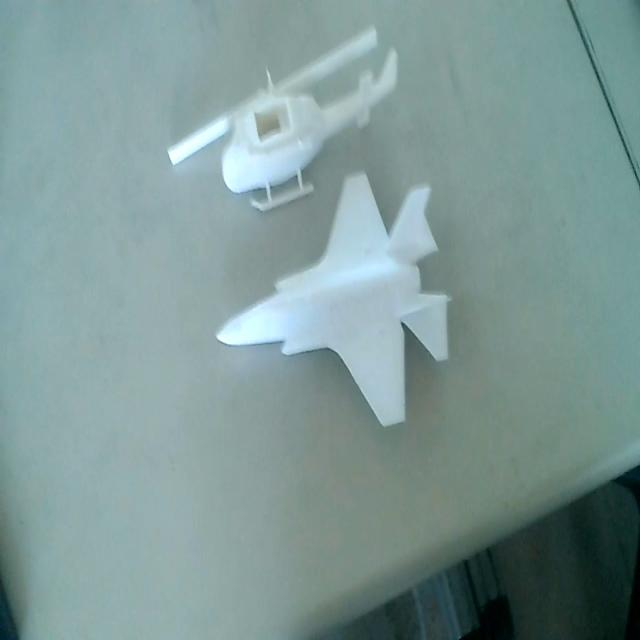Helicopter: (165, 24, 401, 215)
Jet: (217, 170, 454, 447)
